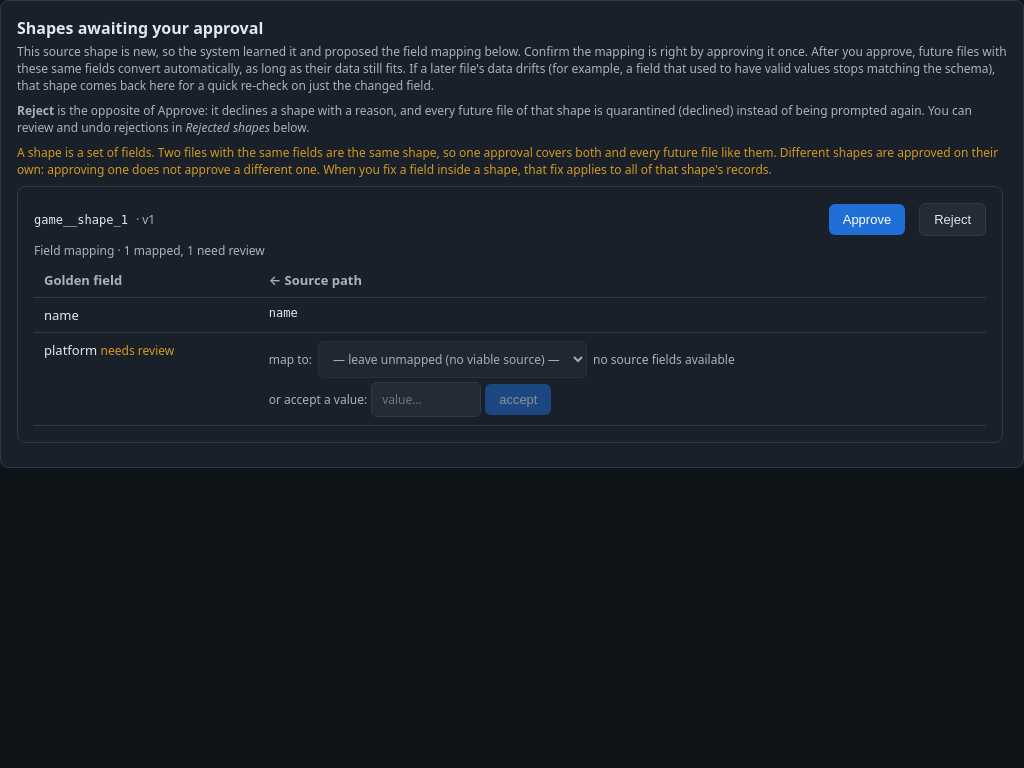
Test: ApprovalCards reject flow › a 422 keeps the form open and shows the parsed detail
Click the button "Reject": click(953, 220) [919,203,986,236]
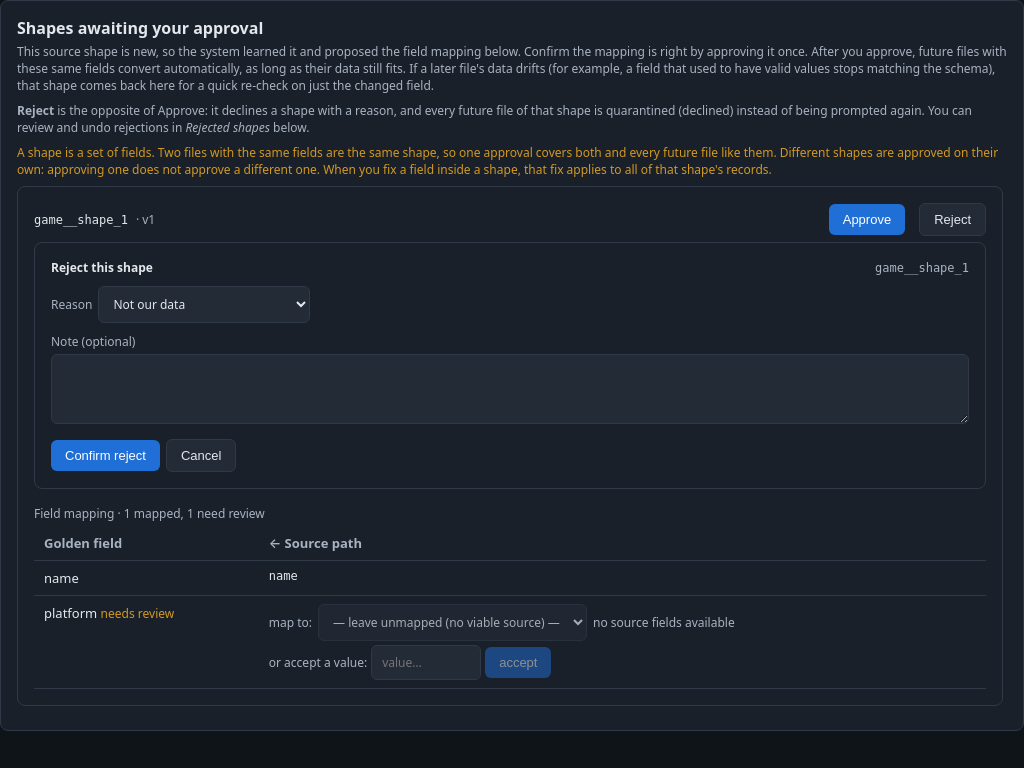
Click the button "Confirm reject": click(105, 456) [51,440,160,471]
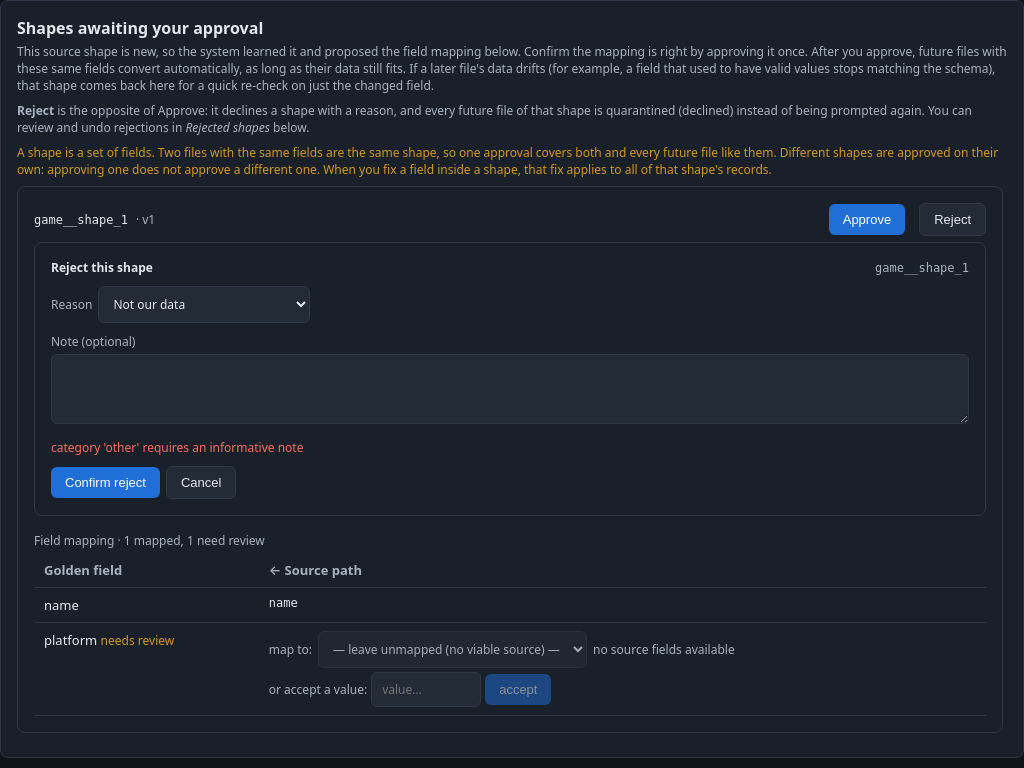
Result: the button "Confirm reject" is shown at [51,467,160,498]
Result: the message shows "informative note" at [51,439,303,456]
